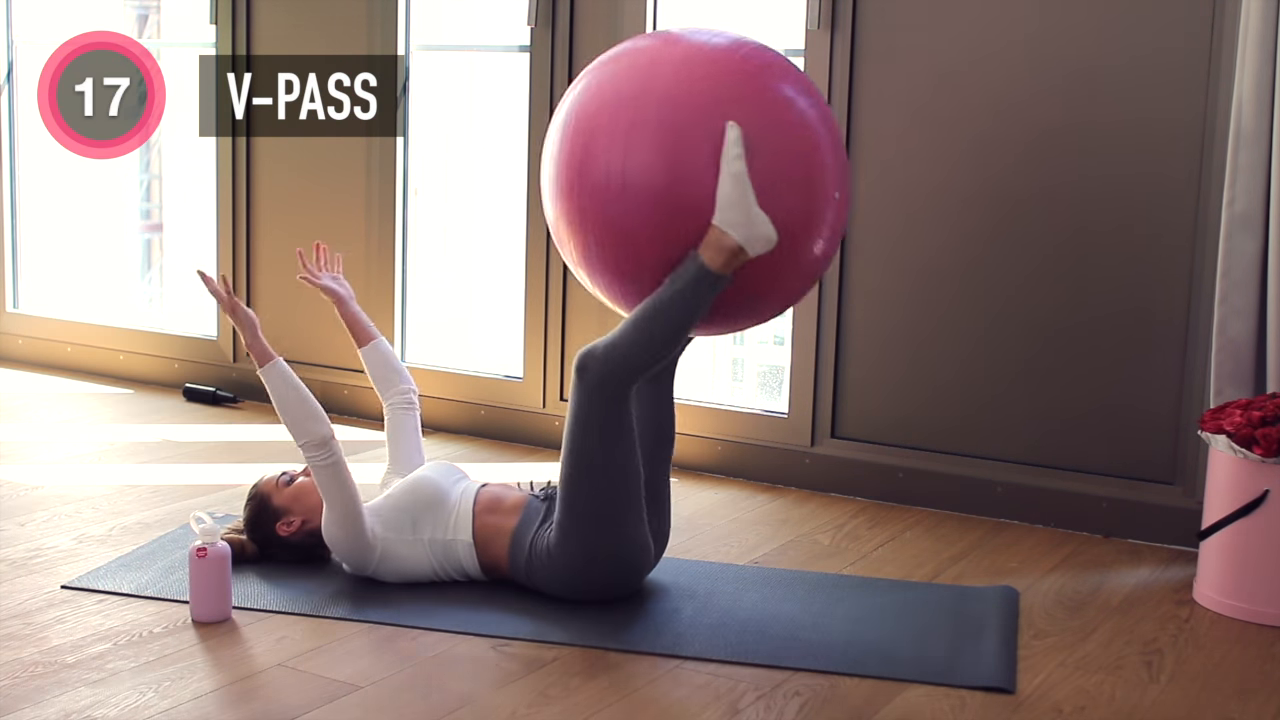yogaball: (531, 26, 861, 344)
